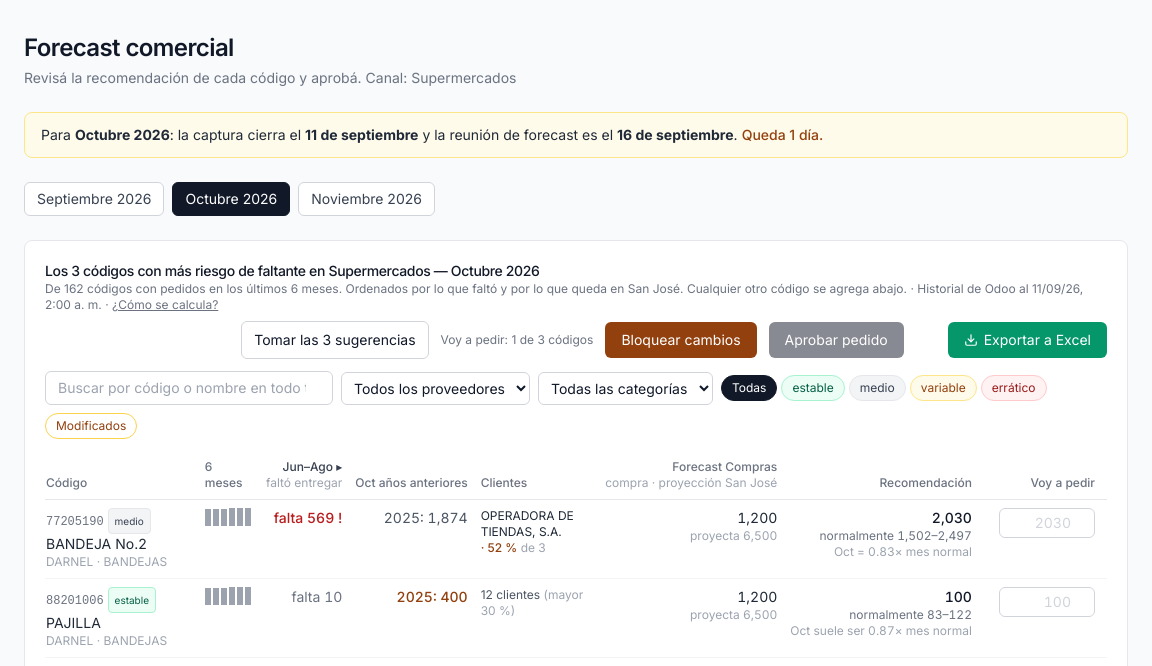
Scenario: el filtro por variabilidad deja sólo esa etiqueta y «Tomar las sugerencias» cuenta lo visible
Expected: the text "77205190" is shown, [46,515,104,529]
Click the button "estable": coordinates (813, 388) [781,375,845,401]
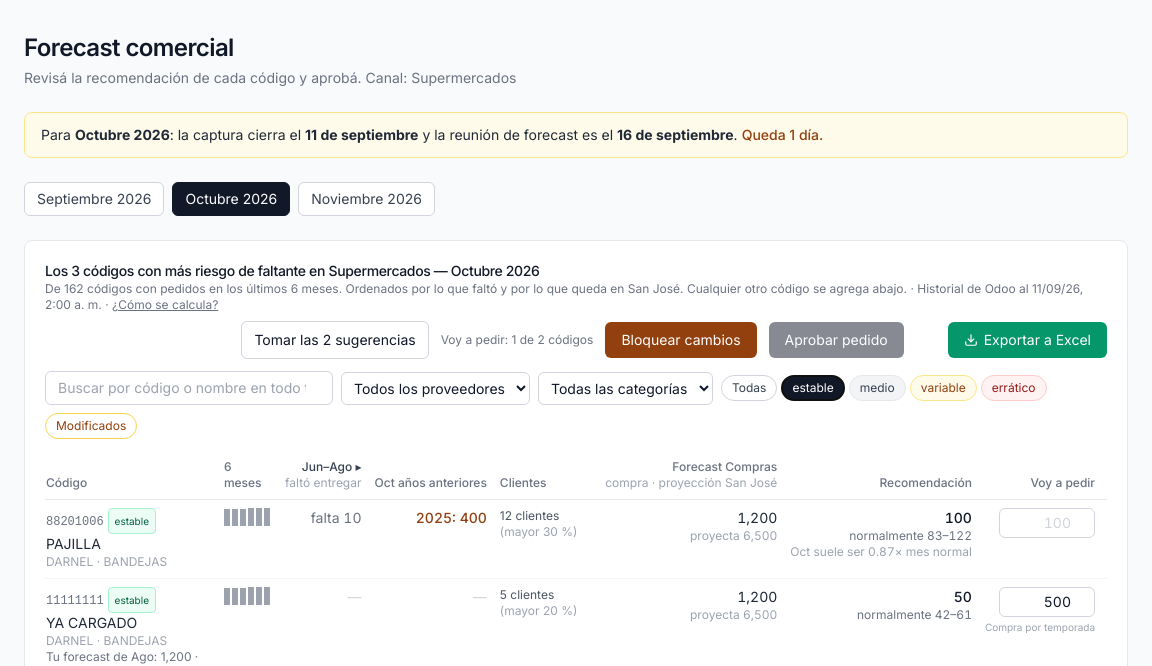
Expected: the text "88201006" is shown, [46,515,104,529]
Result: the text "77205190" is gone
Result: the button "Tomar las 2 sugerencias" is shown at [241,321,429,359]
Click the button "Todas": coordinates (749, 388) [721,375,777,401]
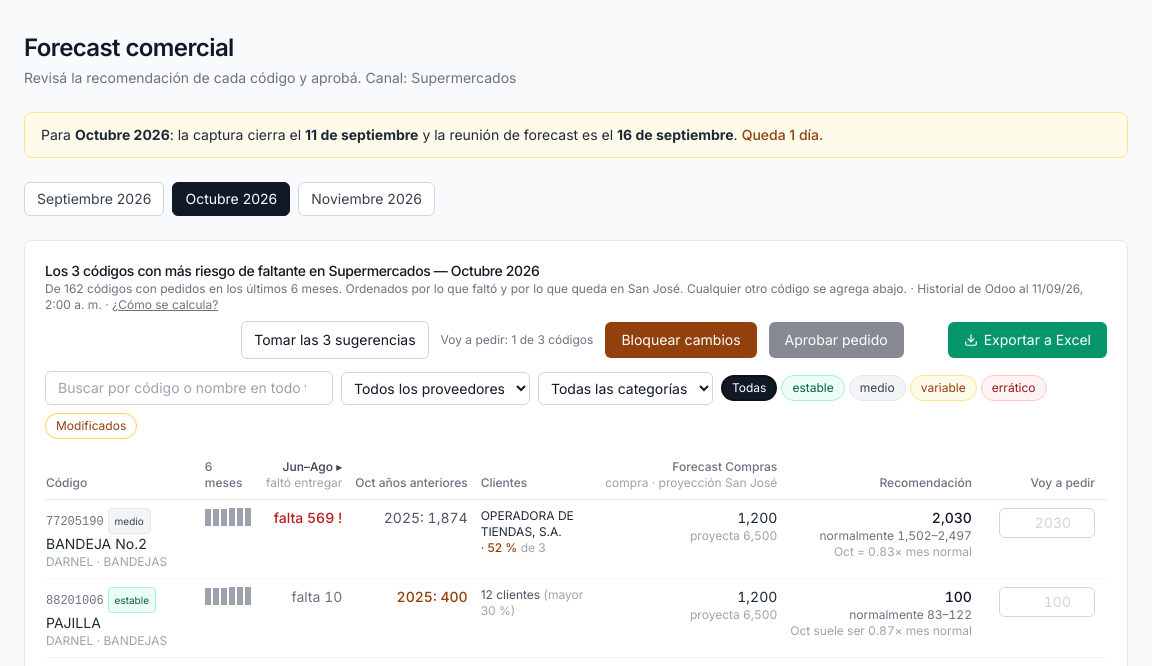
Result: the button "Tomar las 3 sugerencias" is shown at [241,321,429,359]
